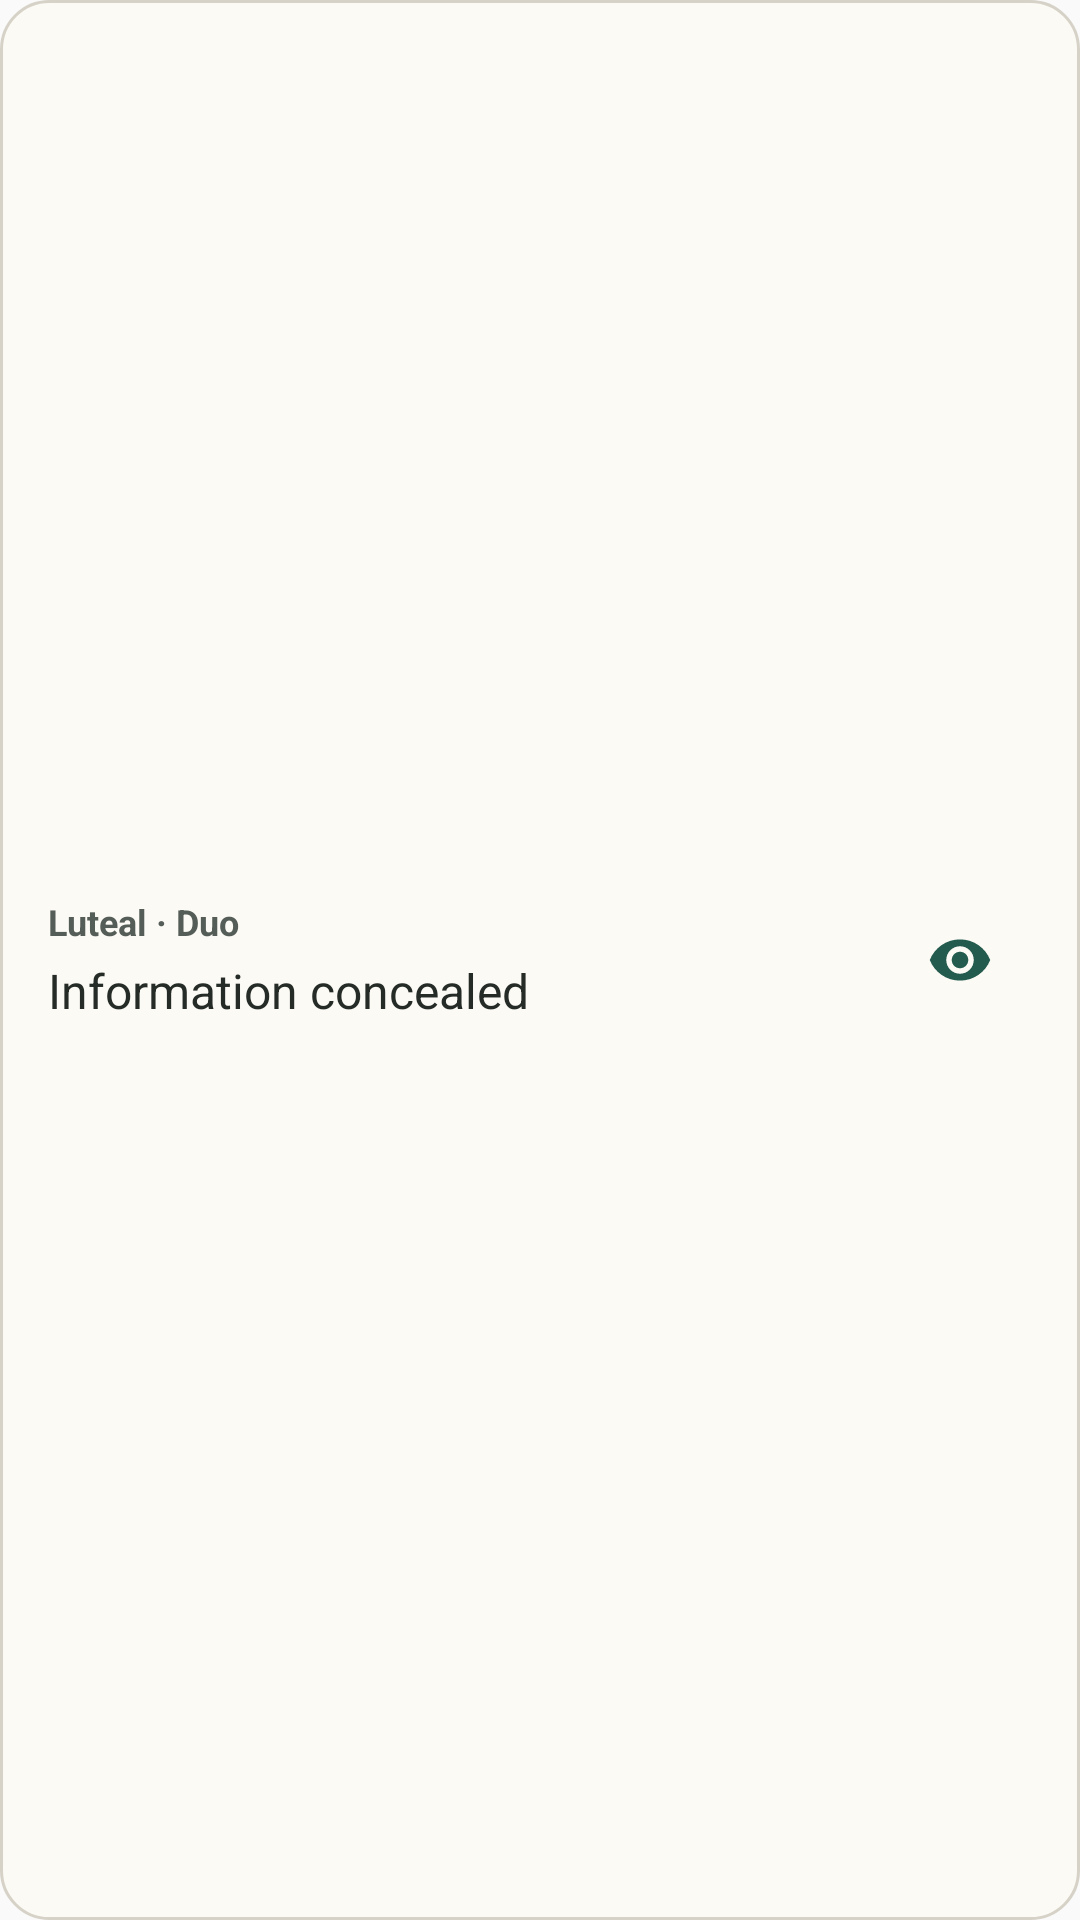

Screen size 1080*1920. Icon name, then its box in pixels as bbox=(x1, y1, x2, y2):
Show widget information: bbox=(930, 939, 990, 981)
